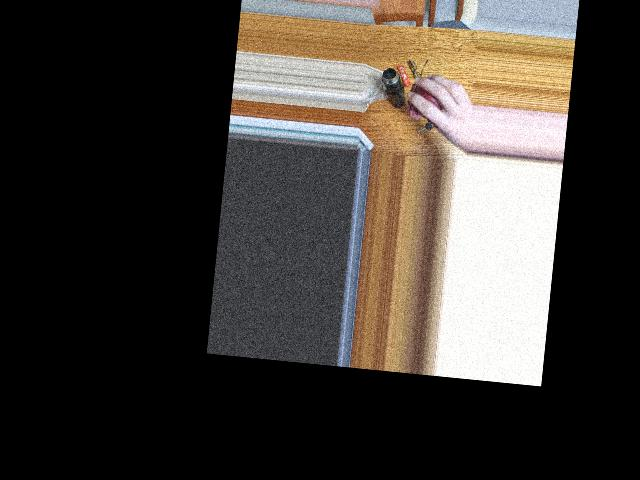onion: (413, 81, 451, 126)
